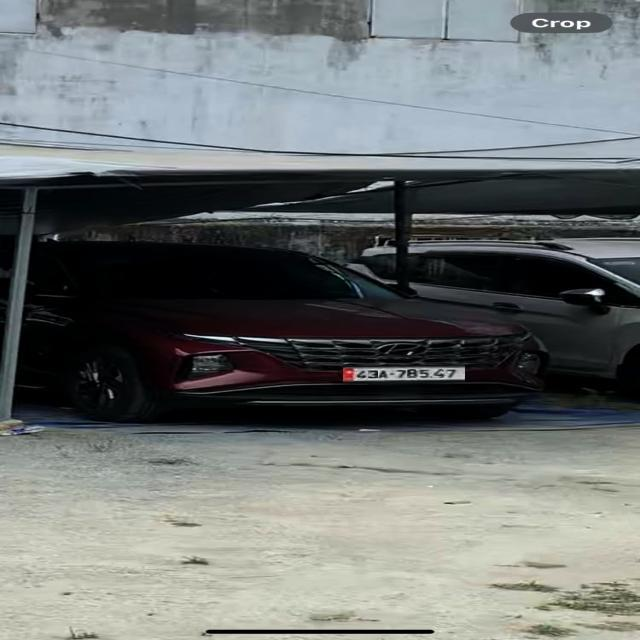car: (12, 232, 535, 430), (345, 241, 640, 397)
plate: (328, 355, 480, 391)
